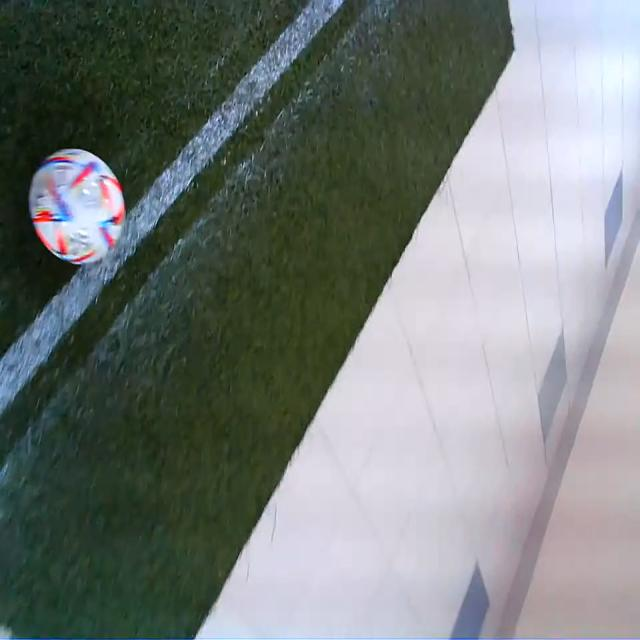ball: (29, 146, 128, 266)
